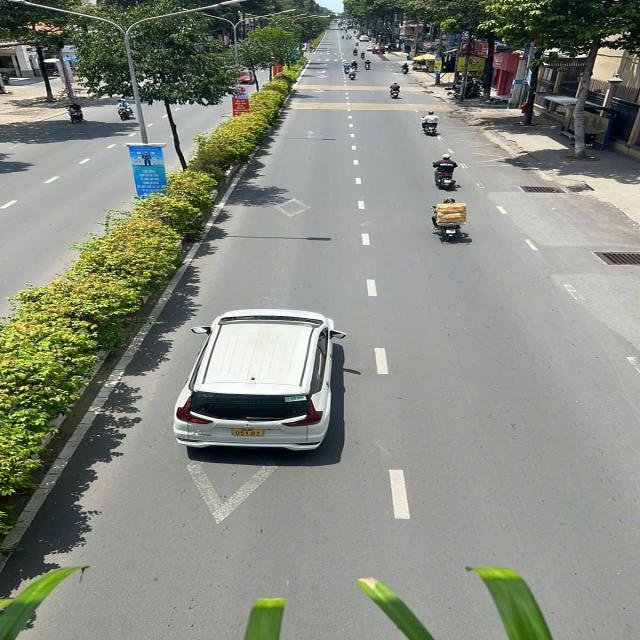car: (170, 307, 349, 454), (372, 44, 388, 56), (358, 33, 371, 43), (368, 44, 380, 52)
motobyte: (423, 195, 473, 244), (430, 150, 465, 192), (421, 108, 445, 138), (387, 78, 406, 103), (344, 64, 362, 82), (338, 58, 354, 75), (362, 58, 378, 73), (400, 61, 414, 76), (350, 44, 362, 60), (359, 49, 369, 60), (354, 39, 362, 48)
